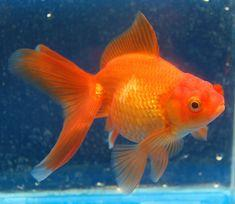goldfish: (10, 12, 227, 191)
